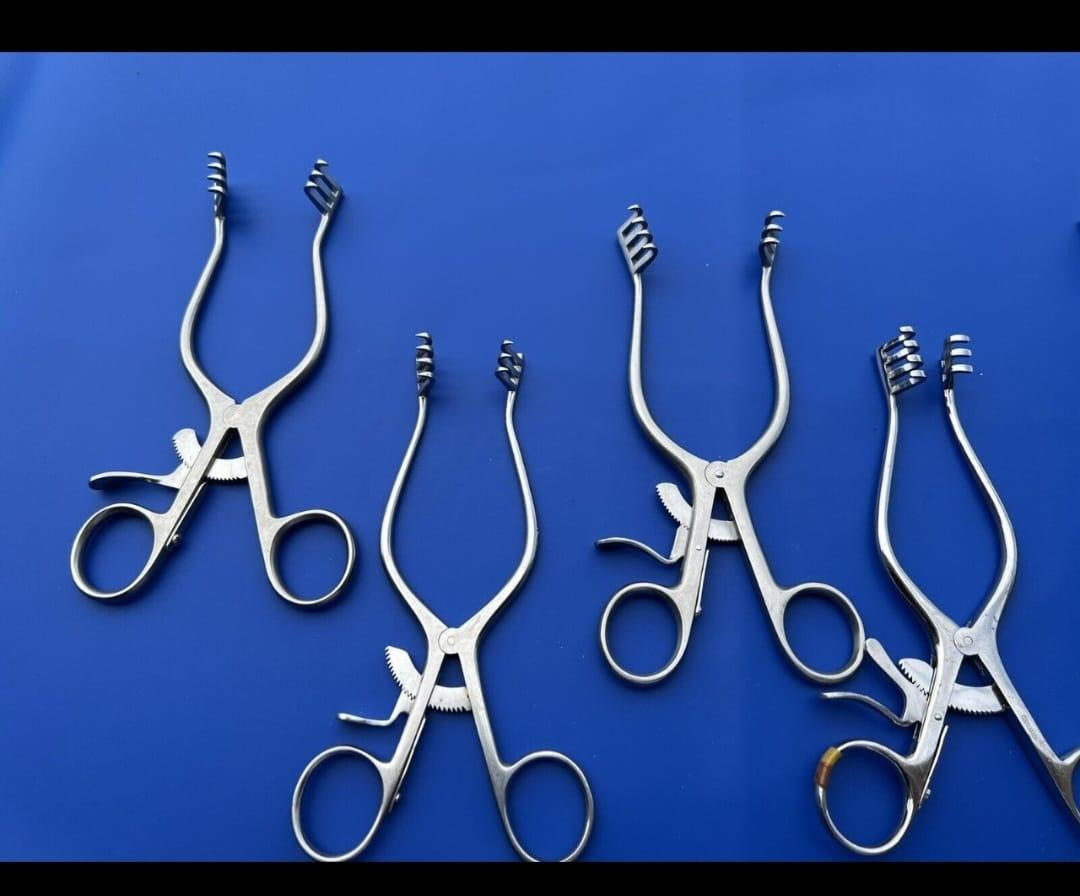Self Retractor: (293, 330, 594, 860), (809, 320, 1080, 854), (593, 187, 873, 701), (66, 140, 360, 613)
